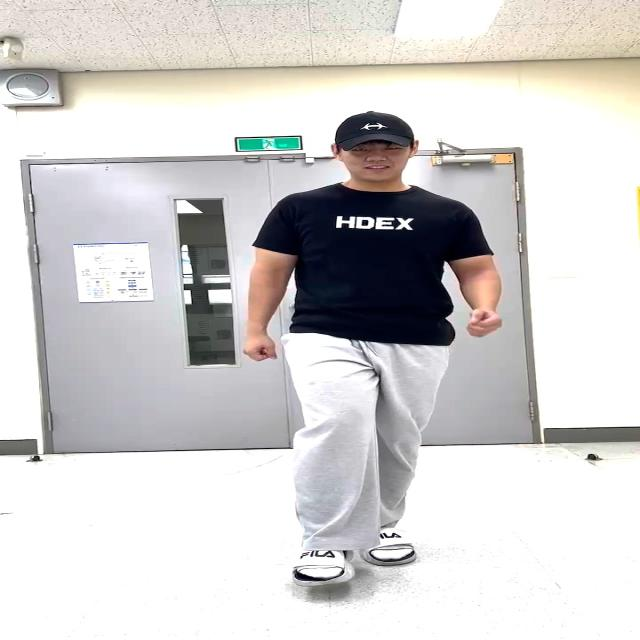leg: (282, 333, 359, 579), (383, 344, 430, 556)
